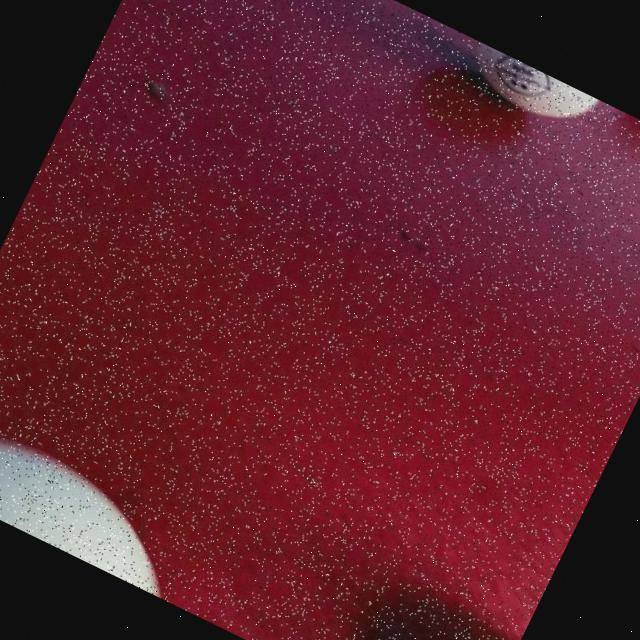ping-pong-ball: (454, 38, 604, 140)
